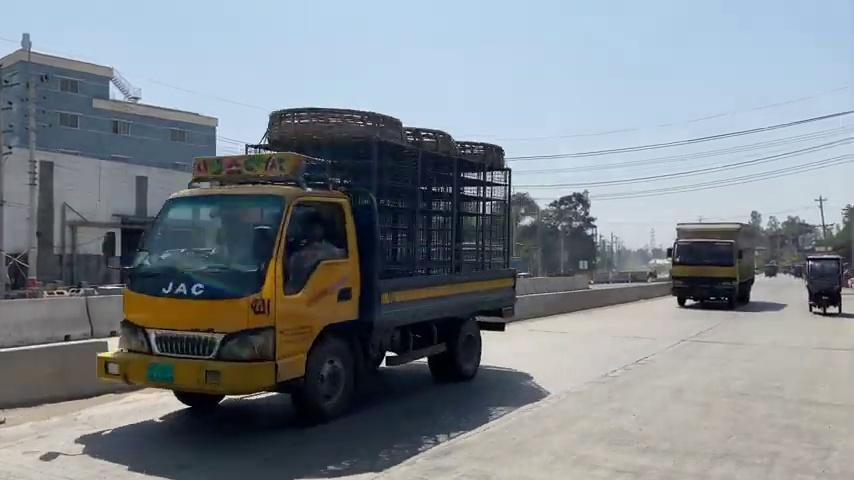Fence: (287, 216, 345, 291)
Rickshaw: (95, 105, 518, 422), (668, 221, 759, 309), (803, 253, 843, 315)
